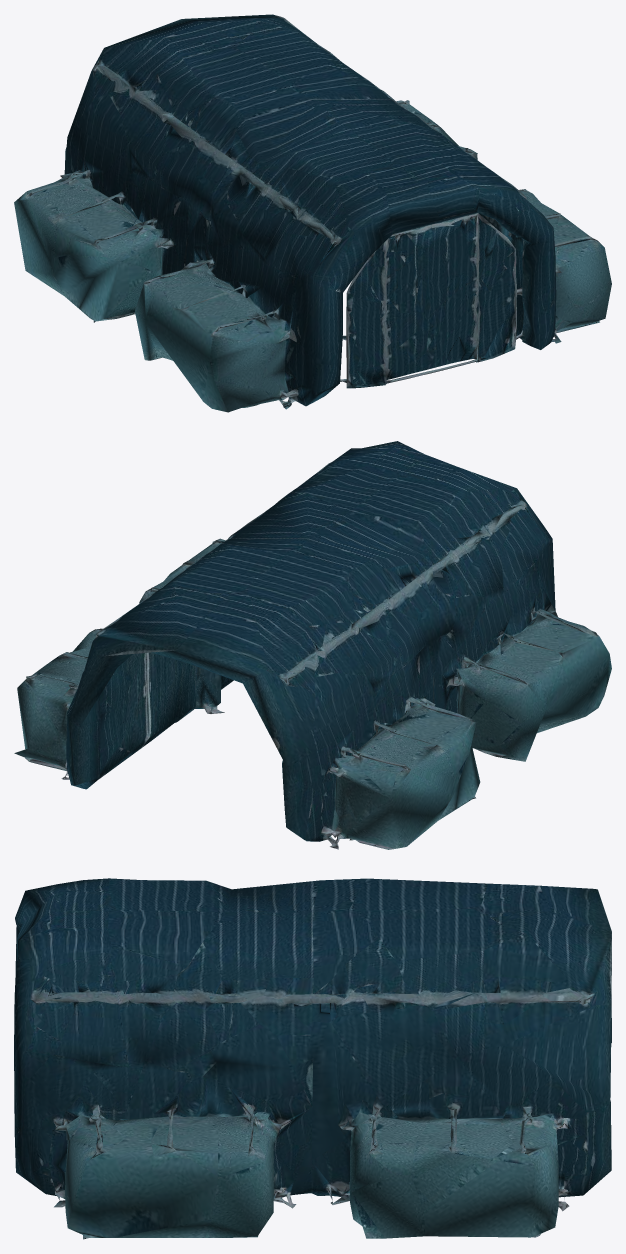
The model's file is fcPlayerTunnelMeshy.a5d607e8.glb.
3 views of the same model, one above another, from view 1: azimuth 30°, elevation 25°; view 2: azimuth 150°, elevation 25°; view 3: azimuth 270°, elevation 25° (orthographic). The views are drawn at different scales.
Size of the model in its own units: 1.67 by 0.7949 by 1.9.
Materials: 1 (1 with a texture image).
